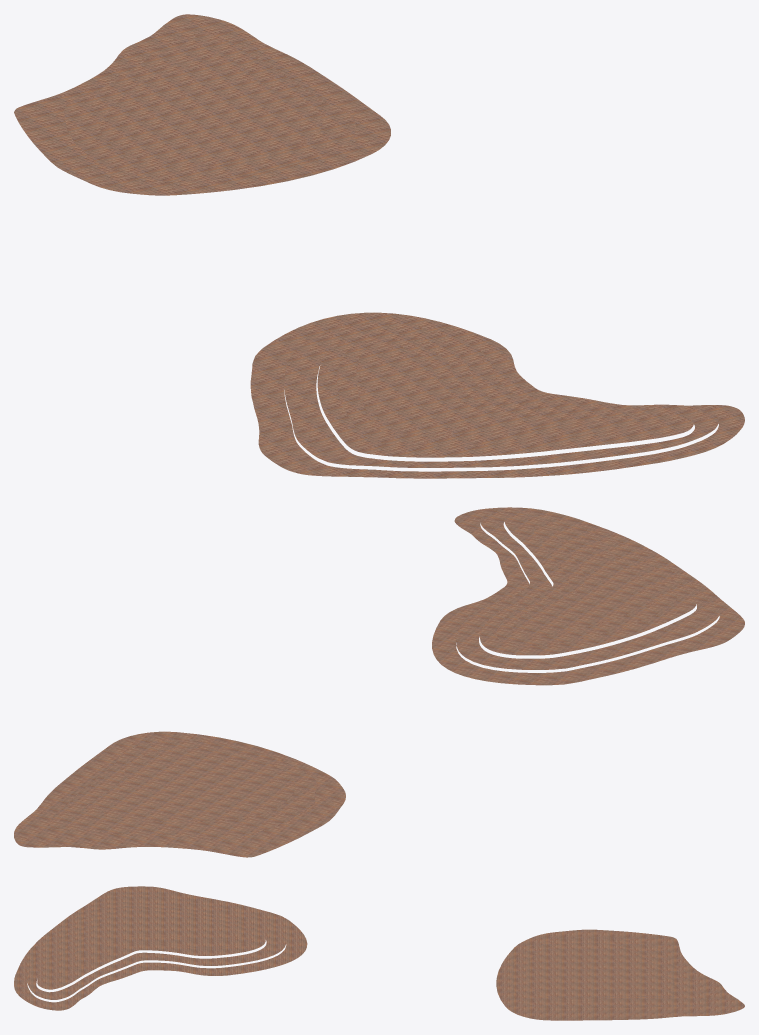
File: terraces.glb
3 views of the same model, one above another, from view 1: azimuth 30°, elevation 25°; view 2: azimuth 150°, elevation 25°; view 3: azimuth 270°, elevation 25° (orthographic). The views are drawn at different scales.
Parts seen in each view (by area): view 1: terraces.001; view 2: terraces.001; view 3: terraces.001.
Part boxes in pixels (bbox=[...]): terraces.001: bbox=[14, 14, 744, 478]; terraces.001: bbox=[14, 507, 744, 857]; terraces.001: bbox=[14, 886, 744, 1020].
Bounding box in the file's own units: 130 × 4 × 299.
1 material, 1 textured.
